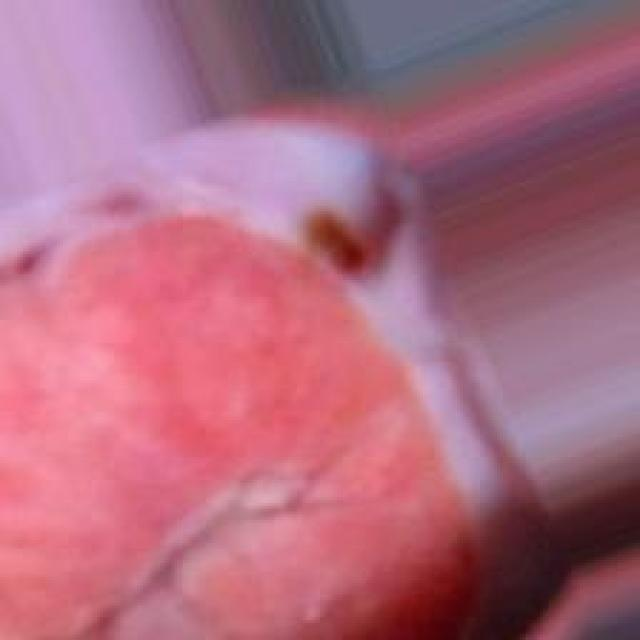type-1: (0, 134, 457, 637)
